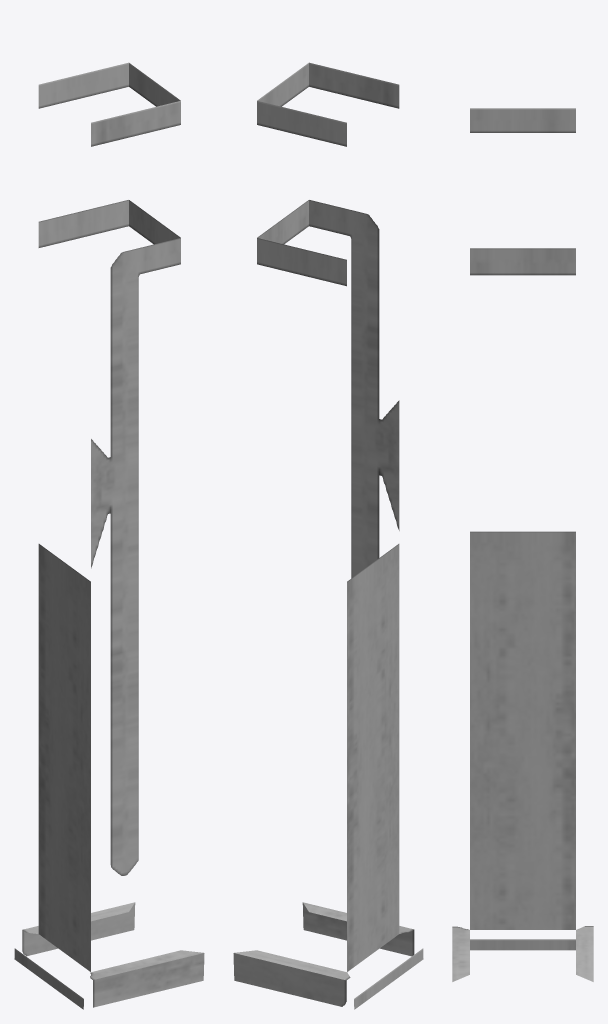
File: Pillar.fbx
The picture shows the model from 3 angles, left to right: view 1: azimuth 30°, elevation 25°; view 2: azimuth 150°, elevation 25°; view 3: azimuth 270°, elevation 25°; orthographic projection.
Visible parts, largest first — view 1: Pillar; view 2: Pillar; view 3: Pillar.
Part boxes in pixels (<box>): Pillar: <box>14,62,204,1009</box>; Pillar: <box>233,62,423,1009</box>; Pillar: <box>452,108,593,981</box>.
Size of the model in its own units: 0.447 by 3.27 by 0.4439.
